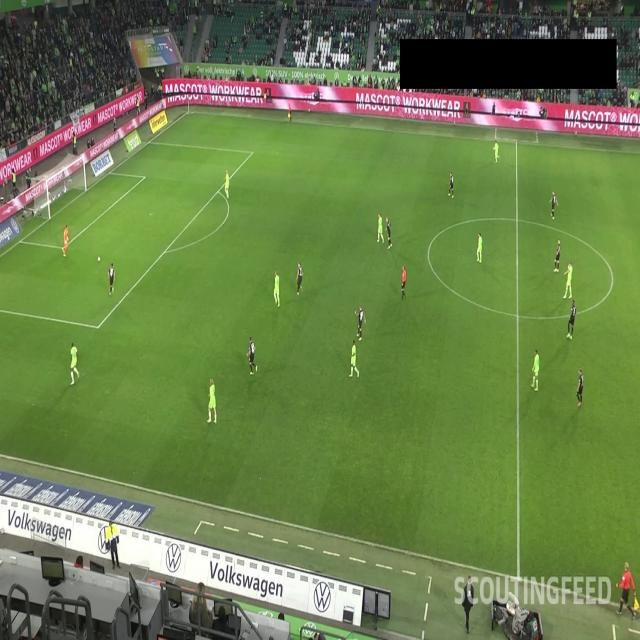Ball: (97, 256, 101, 263)
GoalKeeper: (60, 225, 70, 258)
Referee: (617, 562, 638, 618), (400, 267, 409, 298), (288, 102, 292, 124)
TEAM 1: (206, 379, 217, 424), (70, 342, 80, 387), (530, 350, 540, 393), (349, 340, 360, 379), (563, 263, 573, 301), (273, 270, 281, 307), (476, 232, 483, 266), (376, 212, 383, 245), (224, 170, 230, 200), (493, 140, 500, 162)
TEAM 2: (246, 338, 258, 376), (354, 304, 366, 342), (568, 299, 576, 338), (576, 370, 584, 407), (549, 191, 559, 220), (553, 238, 561, 272), (296, 264, 305, 293), (108, 263, 116, 295), (385, 217, 393, 249), (447, 171, 455, 197)
